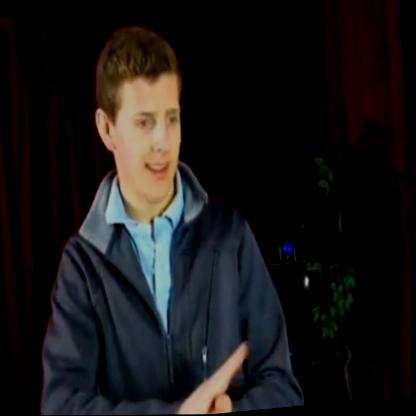NiceToMeetYou: (160, 326, 264, 415)
